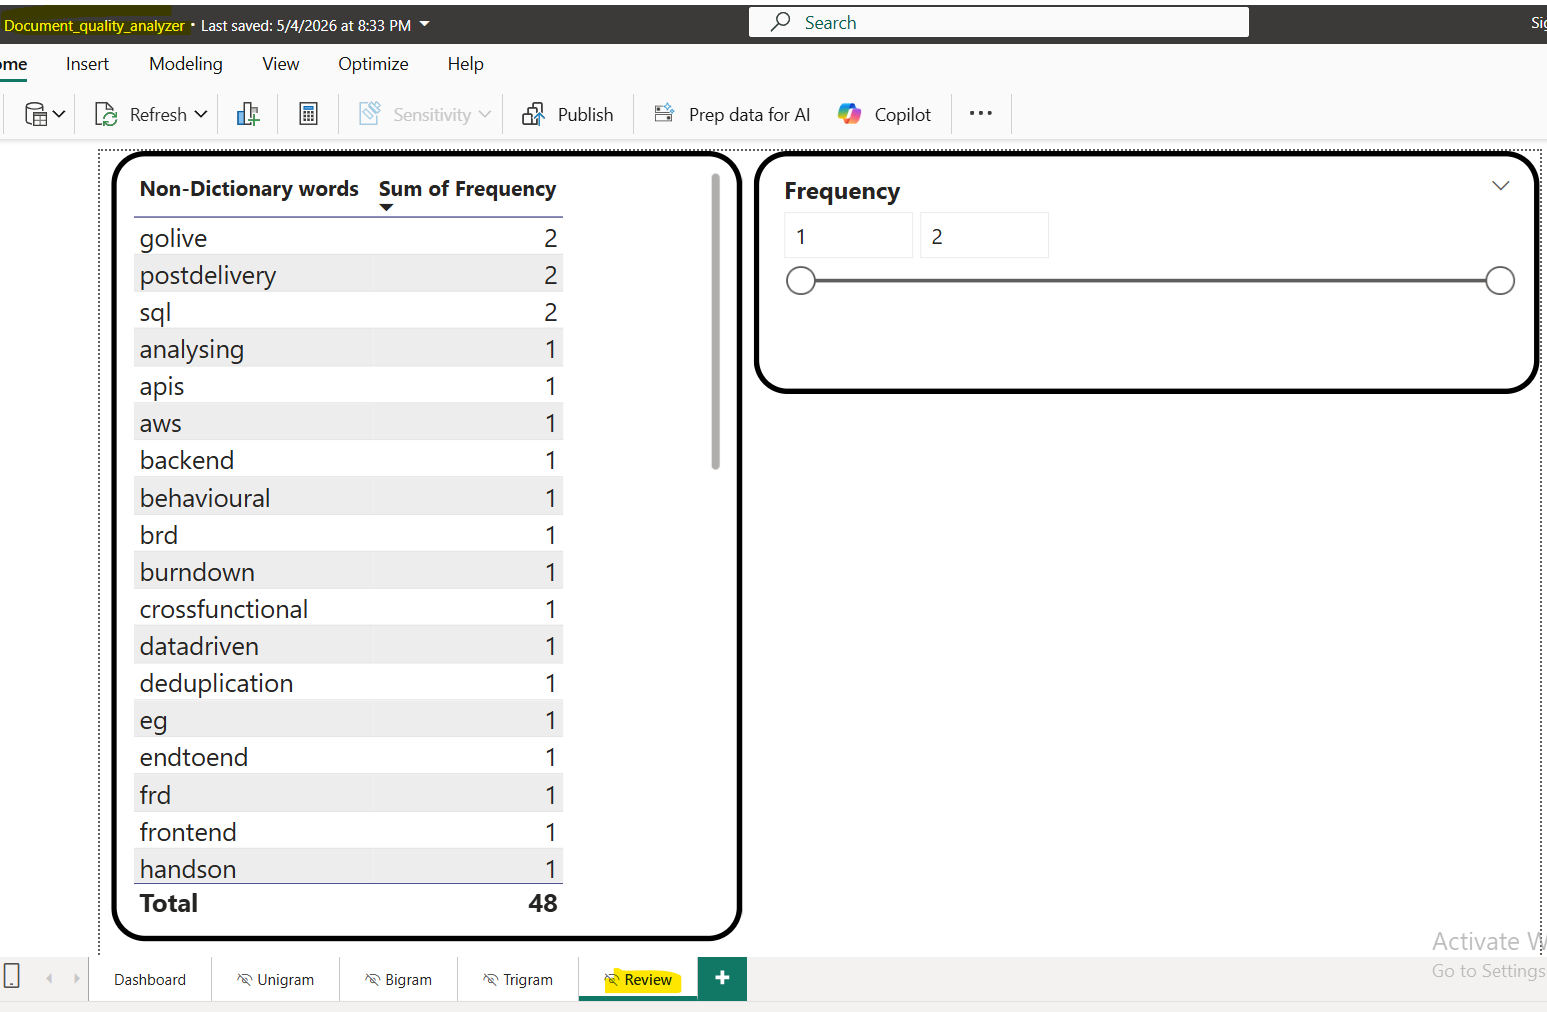

The page's visual inventory and layout, read from the dashboard file:
{"tool":"powerbi","page":{"name":"Review","canvas":[1280,720],"ordinal":4},"visuals":[{"type":"tableEx","fields":{"Values":["Review Required.Non-Dictionary words","Sum(Review Required.Frequency)"]},"box":[10.2,0,560.8,702.6],"z":0},{"type":"slicer","fields":{"Values":["Review Required.Frequency"]},"box":[581.2,0,698.8,215.9],"z":1000}]}

Visuals, with their boxes on the page's 1280x720 design canvas (x1, y1, x2, y2). These are canvas units, not pixel positions in the 1547x1012 screenshot, which may show the page scaled, cropped or inside an application window:
tableEx - Review Required.Non-Dictionary words x Sum(Review Required.Frequency): Rect(10, 0, 571, 703)
slicer - Review Required.Frequency: Rect(581, 0, 1280, 216)
